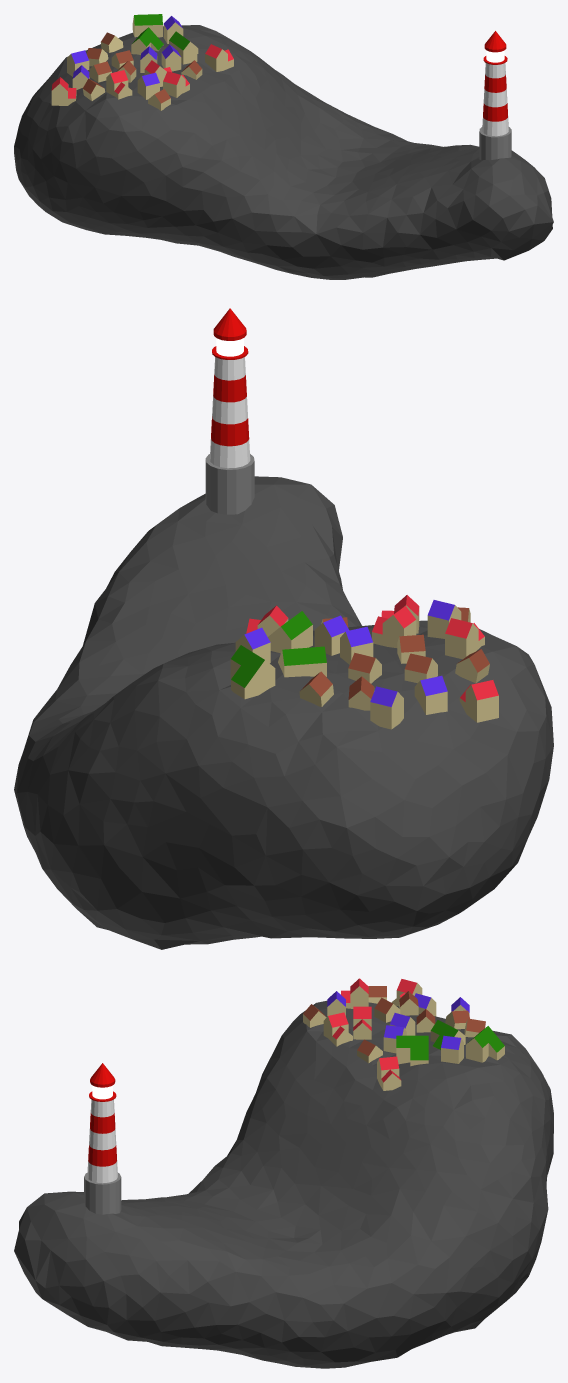
The model's file is project 9_village.finishing.glb.
3 views of the same model, one above another, from view 1: azimuth 30°, elevation 25°; view 2: azimuth 150°, elevation 25°; view 3: azimuth 270°, elevation 25° (orthographic). The views are drawn at different scales.
Parts seen in each view (by area): view 1: Icosphere, Cylinder, Cube.005, Cube.021, Cube.004, Cube.002, Cube.019, Cube.014, Cube.017, Cube.010, Cube.016, Cube.006 (+3 smaller); view 2: Icosphere, Cylinder, Cube.005, Cube.014, Cube.019, Cube.004, Cube.002, Cube.003, Cube.006, Cube.013, Cube, Cube.010 (+5 smaller); view 3: Icosphere, Cylinder, Cube.005, Cube.002, Cube.017, Cube.021, Cube.003, Cube.004, Cube.020, Cube.014.
Boxes of the visible parts, x1,y1,x2,y2 form: Icosphere: (14, 25, 553, 279); Cylinder: (479, 31, 511, 159); Cube.005: (132, 14, 162, 37); Cube.021: (205, 44, 233, 71); Cube.004: (106, 70, 132, 99); Cube.002: (169, 31, 198, 64); Cube.019: (51, 77, 76, 105); Cube.014: (131, 27, 163, 54); Cube.017: (163, 71, 189, 97); Cube.010: (137, 72, 159, 99); Cube.016: (161, 44, 181, 71); Cube.006: (67, 50, 89, 76); Icosphere: (14, 476, 553, 949); Cylinder: (205, 308, 254, 514); Cube.005: (230, 645, 275, 699); Cube.014: (278, 646, 326, 677); Cube.019: (459, 680, 498, 722); Cube.004: (445, 618, 484, 659); Cube.002: (268, 611, 312, 653); Cube.003: (372, 606, 416, 647); Cube.006: (370, 686, 403, 729); Cube.013: (414, 675, 447, 714); Cube: (340, 626, 373, 664); Cube.010: (427, 600, 461, 638); Icosphere: (14, 1000, 553, 1368); Cylinder: (84, 1063, 121, 1214); Cube.005: (466, 1026, 504, 1062); Cube.002: (396, 1035, 428, 1066); Cube.017: (323, 1012, 352, 1046); Cube.021: (377, 1056, 401, 1090); Cube.003: (353, 1006, 371, 1039); Cube.004: (341, 978, 368, 1008); Cube.020: (441, 1035, 463, 1063); Cube.014: (430, 1020, 465, 1049).
Size of what is drawn, in the model's own units: 54.03 by 38.54 by 58.24.
